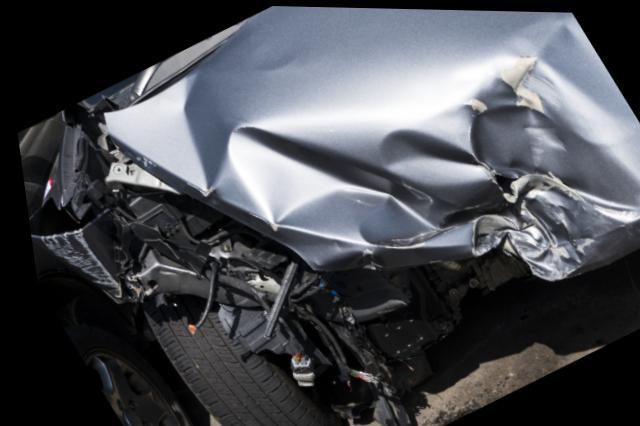dent: (153, 16, 640, 280)
no part: (24, 123, 531, 426)
